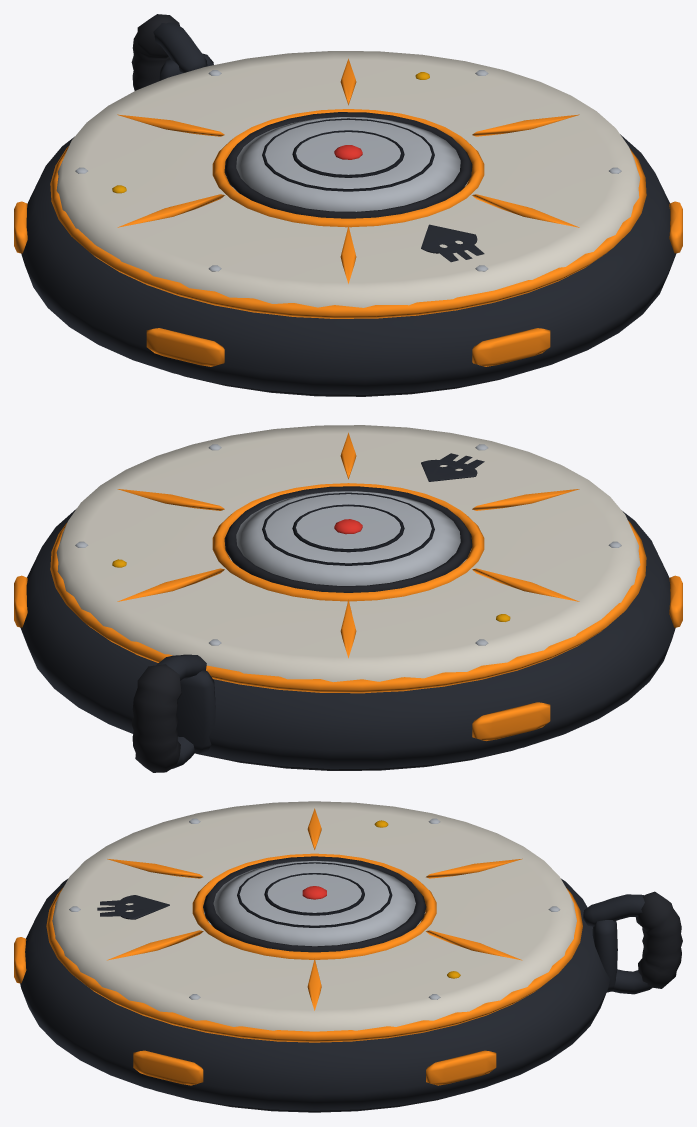
Rendered from sub_mine.glb.
3 views of the same model, one above another, from view 1: azimuth 30°, elevation 25°; view 2: azimuth 150°, elevation 25°; view 3: azimuth 270°, elevation 25° (orthographic). The views are drawn at different scales.
Visible parts, largest first — view 1: body, ink; view 2: body, ink; view 3: body, ink.
Boxes of the visible parts, <box> form: body: <box>21,14,676,396</box>; ink: <box>14,58,682,366</box>; body: <box>20,425,675,772</box>; ink: <box>14,432,682,740</box>; body: <box>20,801,682,1112</box>; ink: <box>14,808,582,1085</box>.
Size of the model in its own units: 0.3001 by 0.0614 by 0.3376.
